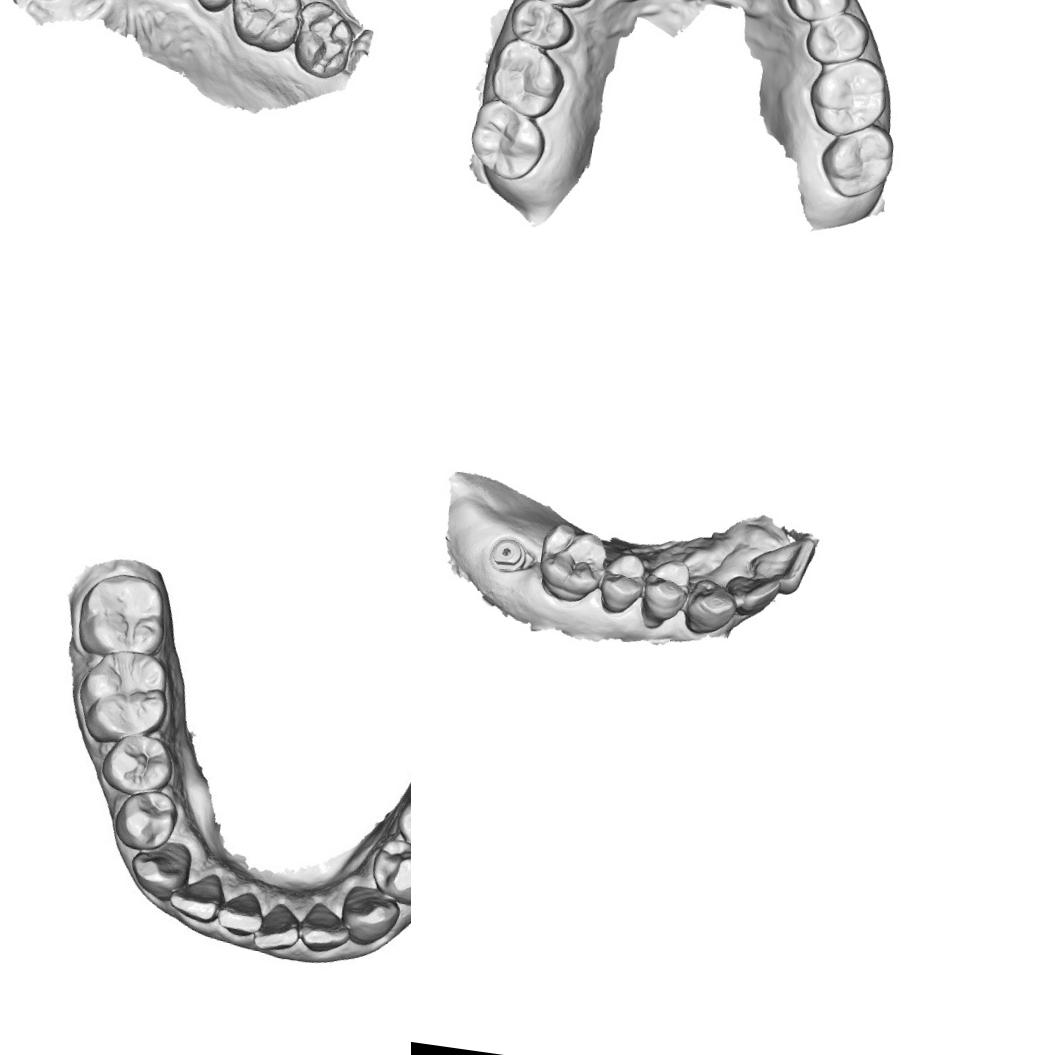canine: (124, 836, 195, 903), (341, 882, 404, 947), (680, 574, 741, 640)
implant: (487, 532, 528, 578)
incisor: (742, 528, 818, 598), (167, 868, 234, 925), (252, 898, 306, 963), (214, 887, 272, 946), (720, 570, 782, 622), (297, 902, 353, 957)
inlay: (300, 4, 350, 78)
molar: (72, 647, 177, 744), (74, 567, 175, 661), (804, 54, 892, 142), (465, 96, 552, 184), (487, 35, 572, 122), (815, 117, 899, 204), (532, 517, 613, 606), (225, 0, 306, 56)
premolar: (100, 730, 175, 796), (114, 781, 182, 851), (801, 6, 873, 70), (638, 554, 694, 626), (506, 0, 577, 54), (596, 548, 648, 618), (370, 836, 411, 905), (782, 0, 855, 28), (190, 0, 251, 17), (396, 789, 411, 858), (526, 0, 600, 12)
